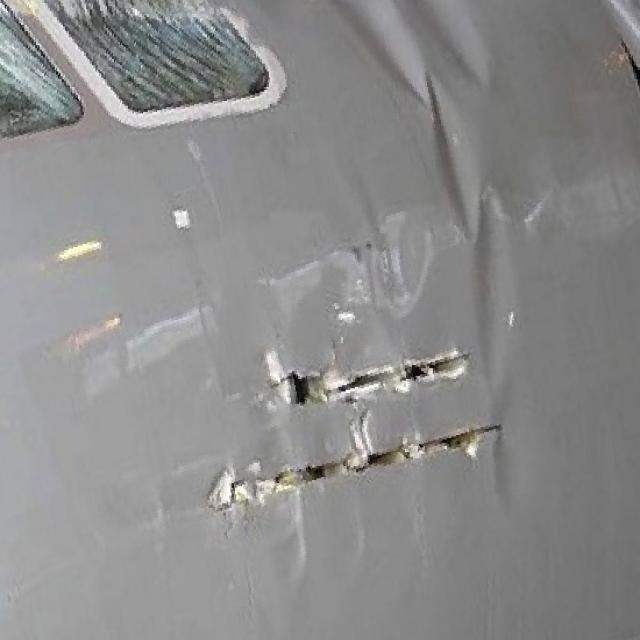Crack: (201, 334, 519, 522)
